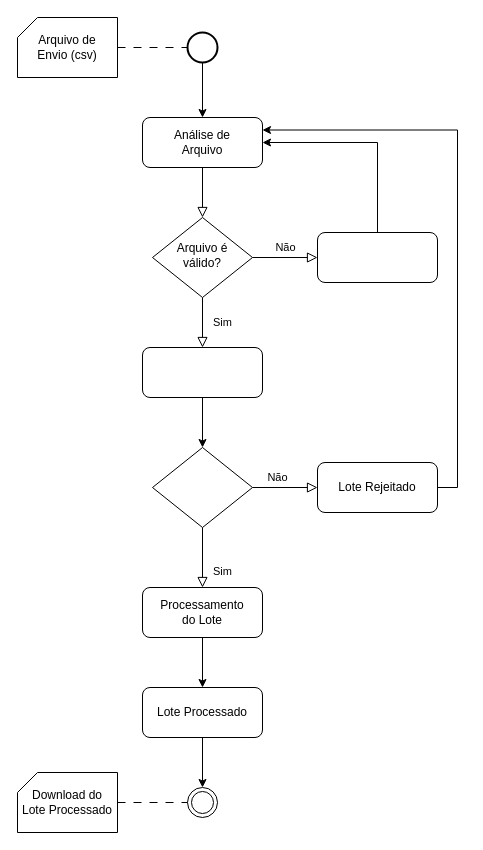
The diagram is 483 pixels wide and 850 high, and some of its shapes have lost their labels. Here are the shapes that lost their labels. From the top down, the centre of each, then its label:
point (377, 257): Revisar Arquivo
point (202, 372): Análise de Dados
point (202, 487): Dados Válidos?
